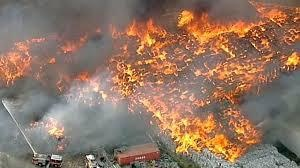fire: (56, 5, 287, 157), (30, 114, 67, 137)
